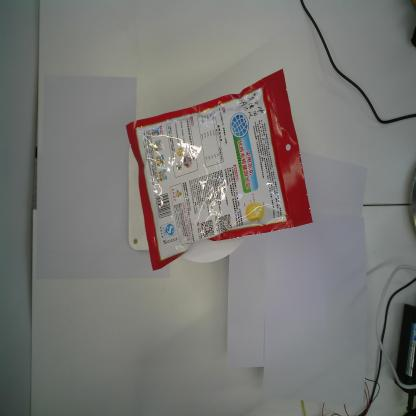Instant Drink: (124, 66, 314, 274)
